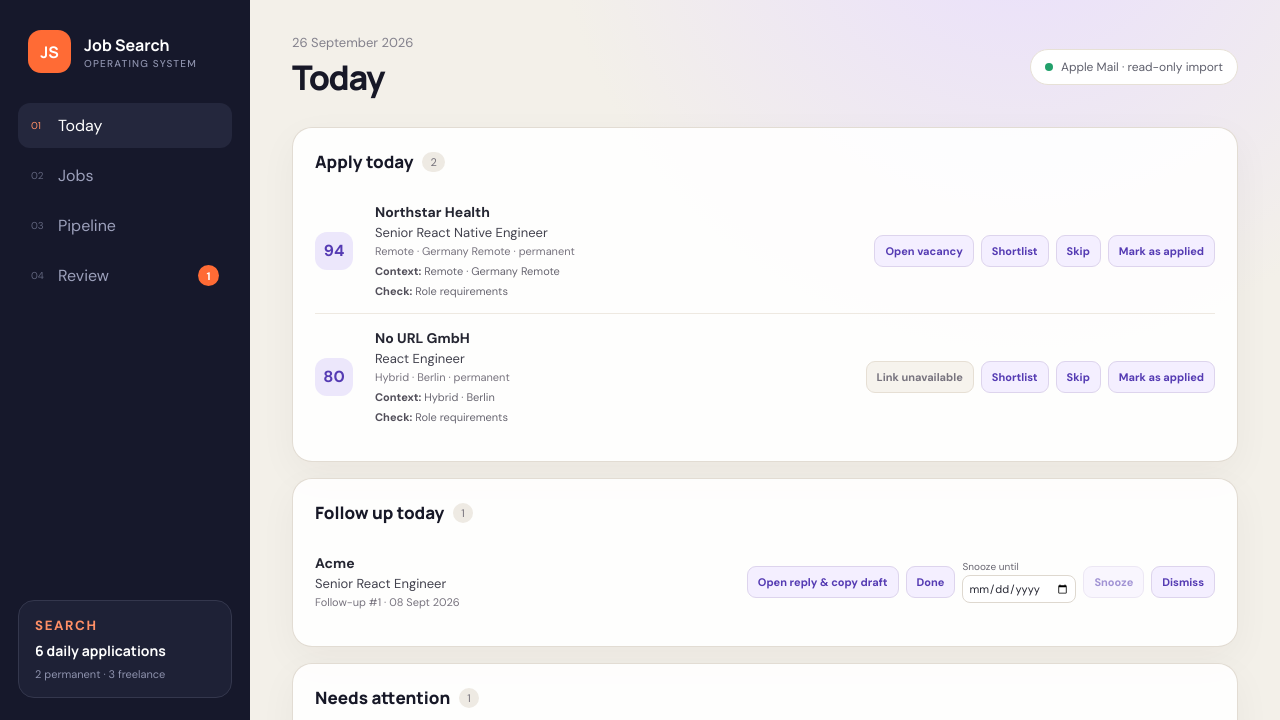
Test case: App › pipeline separates active, unknown and archive, and restores card focus after detail closes
The image size is (1280, 720).
Expected: the heading "Today" is shown, [292,54,384,100]
Click the button "03 Pipeline" at x=125, y=226, box [18,203,232,248]
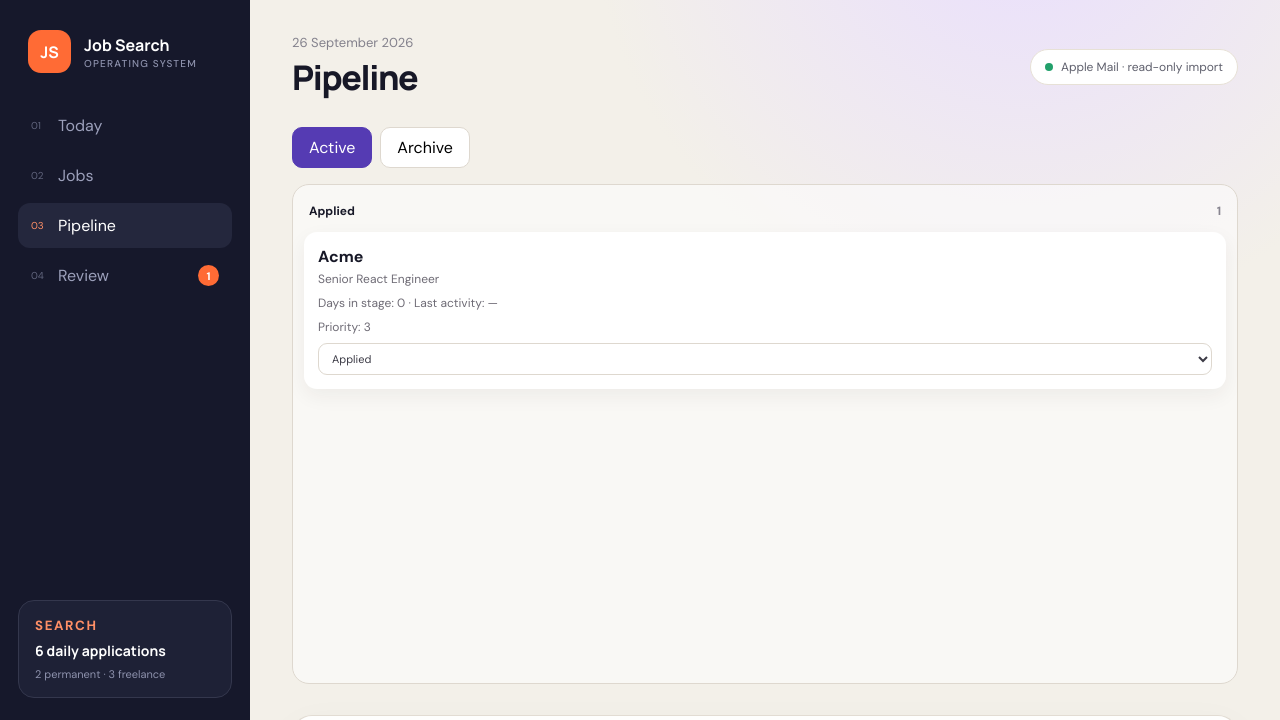
Expected: the text "Acme" is shown, [318,246,363,267]
Expected: the text "Rejected Co" is not shown
Click the button with aria-label "Details for Acme — Senior React Engineer" at x=341, y=256, box [318,246,1212,287]
(page scrolled)
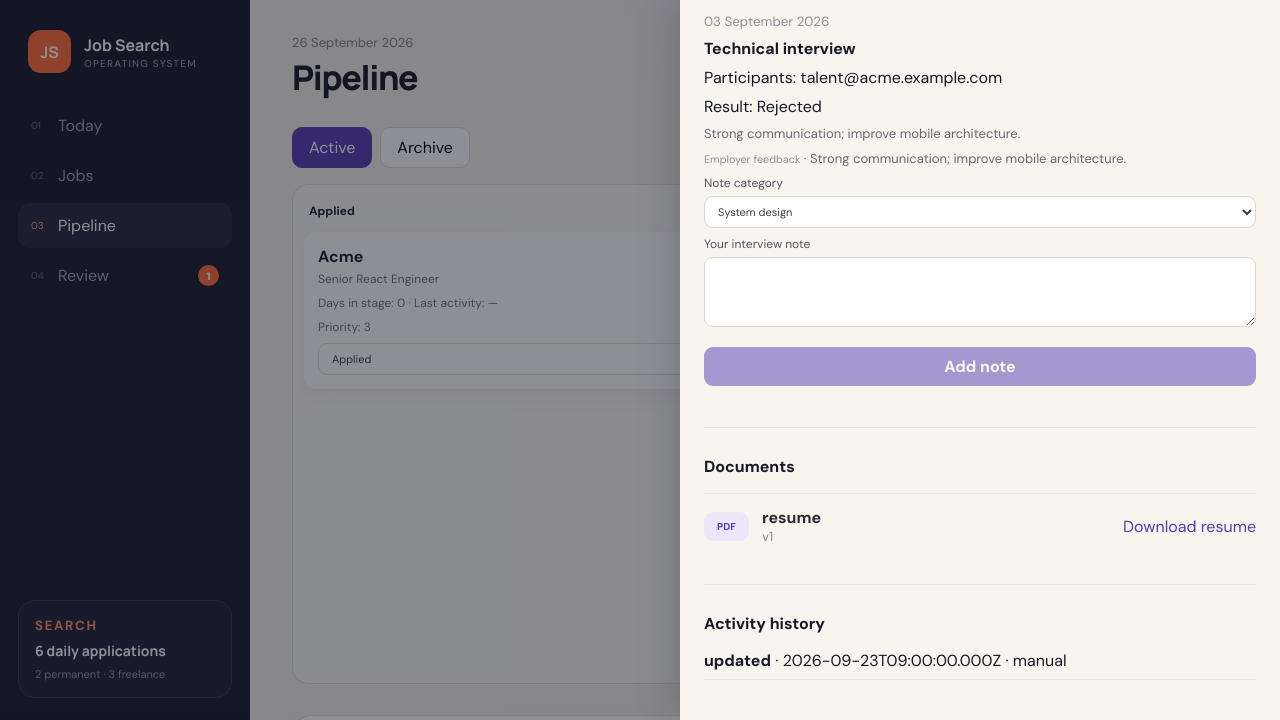
Now the text "Strong communication; improve mobile architecture." is shown 2 times, box [704,125,1020,142]; [810,150,1126,167]
Press Escape
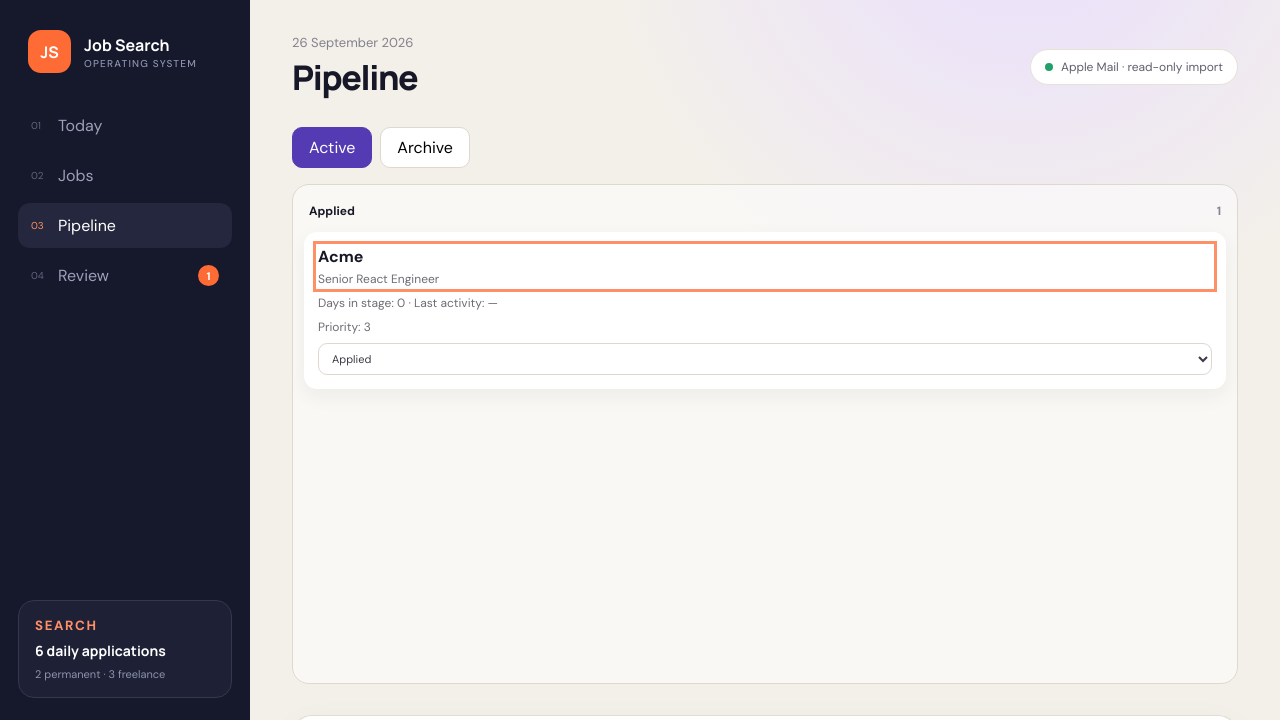
Click the button "Archive" at x=425, y=148, box [380,127,470,168]
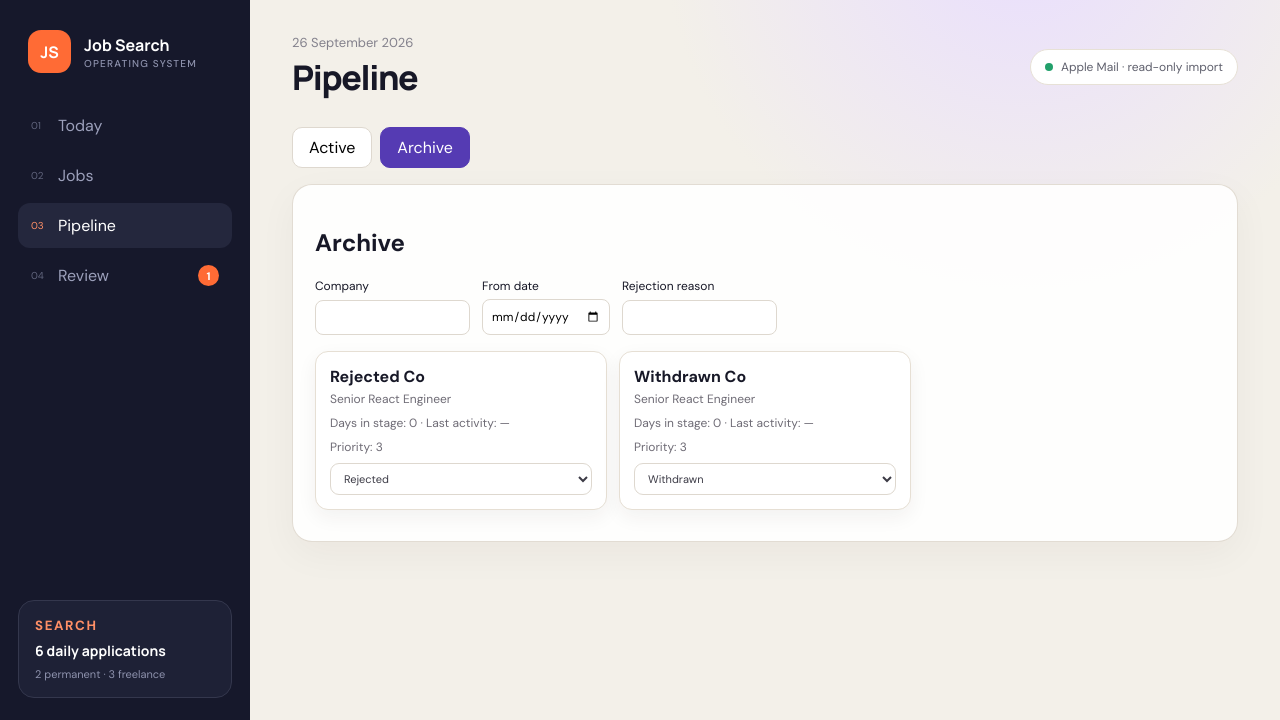
Now the element named "Archived applications" shows "Rejected Co", box [330,366,592,407]
Now the element named "Archived applications" shows "Withdrawn Co", box [634,366,896,407]
